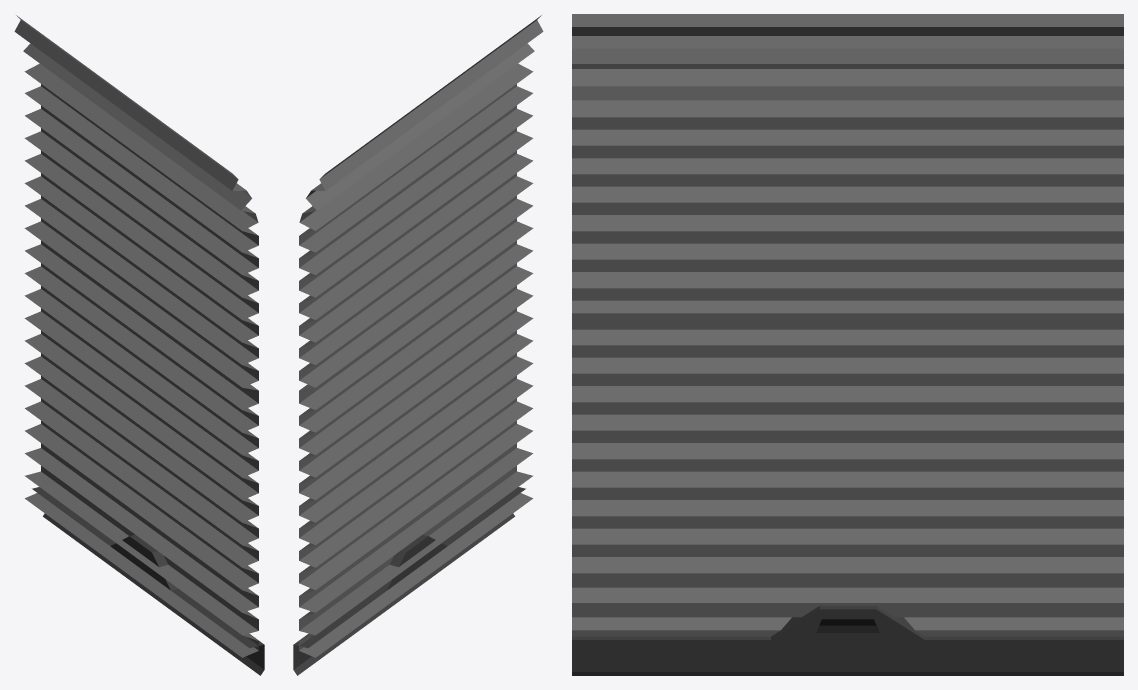
Rendered from door_garage.FBX.
The picture shows the model from 3 angles, left to right: view 1: azimuth 30°, elevation 25°; view 2: azimuth 150°, elevation 25°; view 3: azimuth 270°, elevation 25°; orthographic projection. The views are drawn at different scales.
Visible parts, largest first — view 1: door_garage; view 2: door_garage; view 3: door_garage.
Boxes of the visible parts, x1,y1,x2,y2 form: door_garage: (14,15,264,675); door_garage: (293,15,543,675); door_garage: (572,14,1123,675).
Bounding box in the file's own units: 11.65 × 176 × 137.
